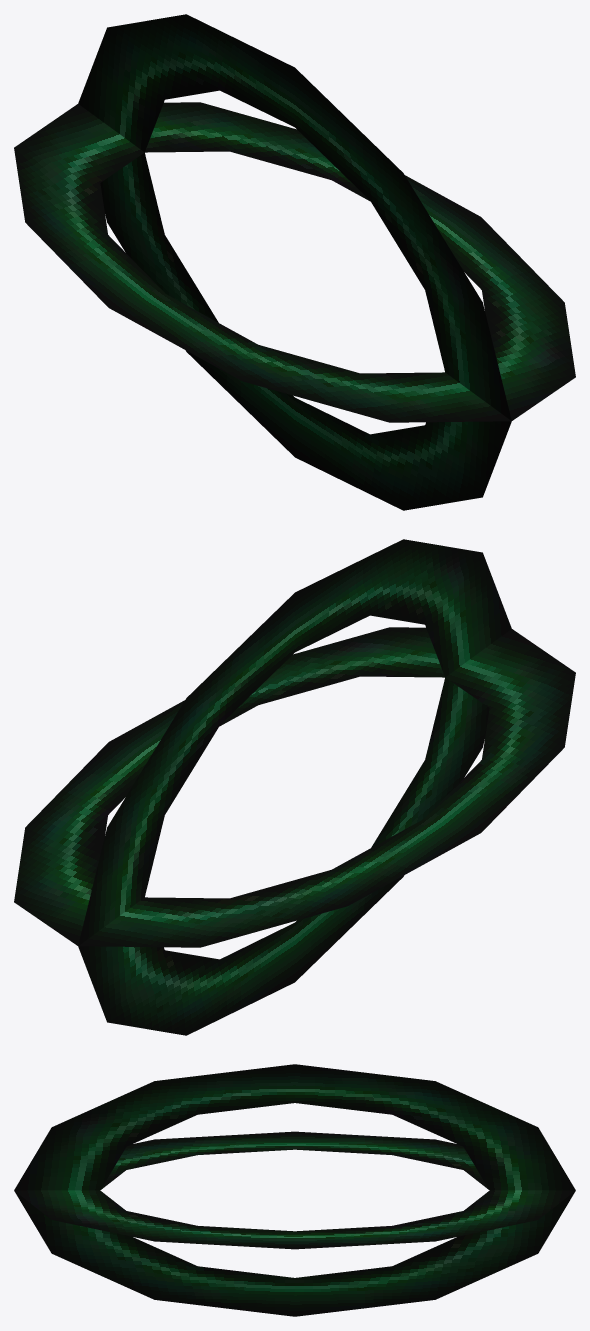
The model's file is Protect01.glb.
3 renders of one model, top to bottom at view 1: azimuth 30°, elevation 25°; view 2: azimuth 150°, elevation 25°; view 3: azimuth 270°, elevation 25°, orthographic. The views are drawn at different scales.
Parts seen in each view (by area): view 1: model_Protect01; view 2: model_Protect01; view 3: model_Protect01.
Boxes of the visible parts, box(x1,y1,x2,y2) form: model_Protect01: box(14, 14, 575, 510); model_Protect01: box(14, 539, 575, 1035); model_Protect01: box(14, 1064, 575, 1316).
Size of the model in its own units: 1.14 by 1.14 by 2.3.
Materials: 1 (1 with a texture image).
